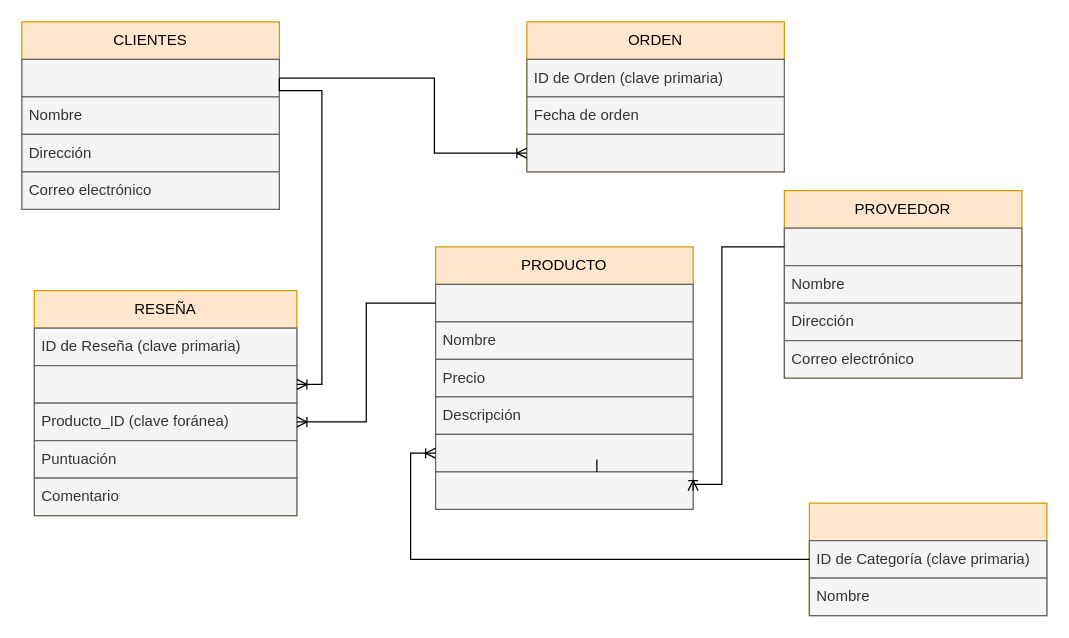
The diagram is 1069 pixels wide and 638 high, and some of its shapes have lost their labels. The box of each missing label's shape, as (x1, y1, x2, y2) in pixels:
CATEGORIA: (808, 502, 1047, 616)
Categoría_ID (clave foránea): (434, 433, 693, 472)
Clave_ID (clave foránea): (526, 133, 784, 172)
Cliente_ID (clave foránea): (33, 364, 297, 403)
ID de Cliente (clave primaria): (21, 58, 279, 97)
ID de producto (clave primaria): (434, 283, 693, 322)
ID de proveedor (clave primaria): (783, 227, 1022, 266)
Proveedor_ID (clave foránea): (434, 471, 693, 509)
